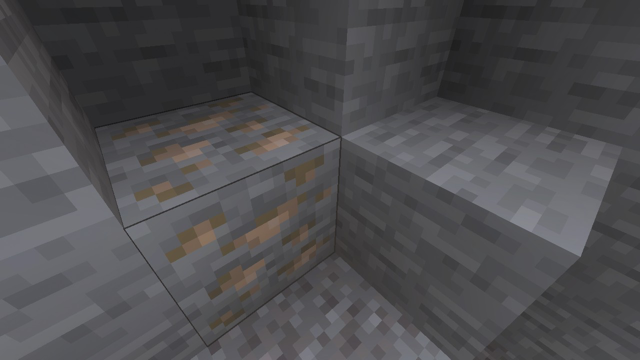iron: (72, 94, 341, 341)
